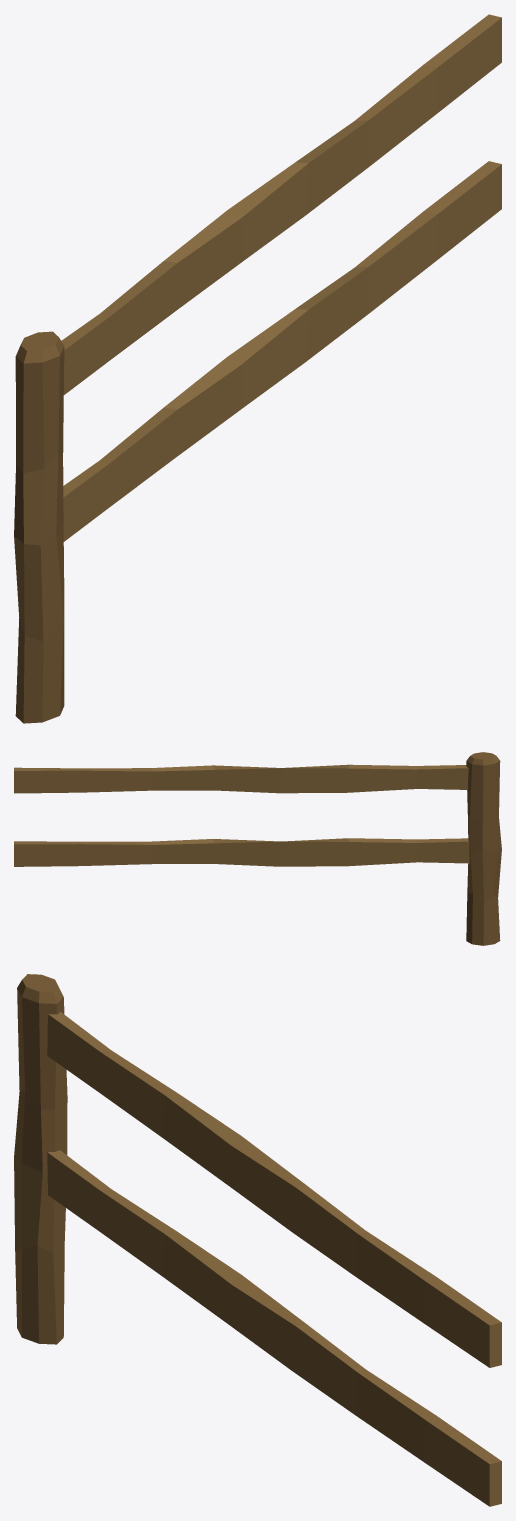
File: Fence.fbx
3 views of the same model, one above another, from view 1: azimuth 30°, elevation 25°; view 2: azimuth 150°, elevation 25°; view 3: azimuth 270°, elevation 25° (orthographic). The views are drawn at different scales.
Parts seen in each view (by area): view 1: Cube.116; view 2: Cube.116; view 3: Cube.116.
Part boxes in pixels (x1,y1,x2,y2): Cube.116: (14,14,501,723); Cube.116: (14,752,501,945); Cube.116: (14,974,501,1506).
Bounding box in the file's own units: 270 × 131 × 166.
